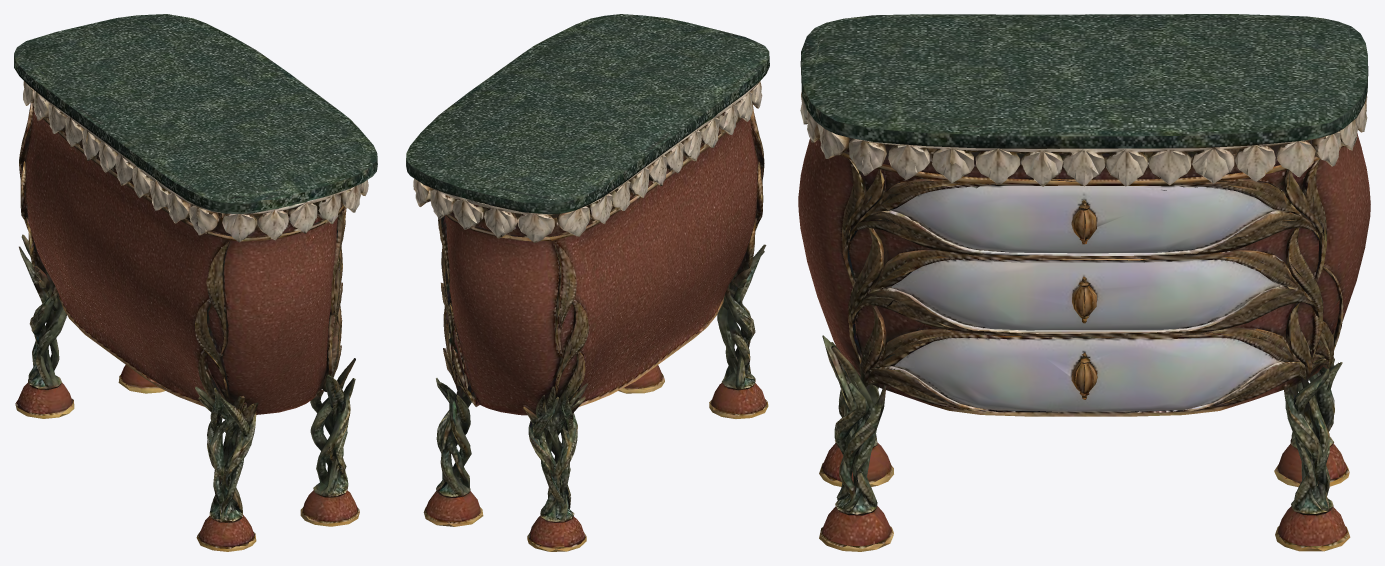
File: ON-03_dresser_game.glb
3 views of the same model, side by side, from view 1: azimuth 30°, elevation 25°; view 2: azimuth 150°, elevation 25°; view 3: azimuth 270°, elevation 25° (orthographic). The views are drawn at different scales.
Parts seen in each view (by area): view 1: ON-03_dresser; view 2: ON-03_dresser; view 3: ON-03_dresser.
Boxes of the visible parts, x1=… form: ON-03_dresser: x1=14, y1=14, x2=377, y2=551; ON-03_dresser: x1=406, y1=14, x2=769, y2=551; ON-03_dresser: x1=798, y1=14, x2=1370, y2=551.
Size of the model in its own units: 0.5402 by 0.8804 by 1.03.
Materials: 1 (1 with a texture image).
